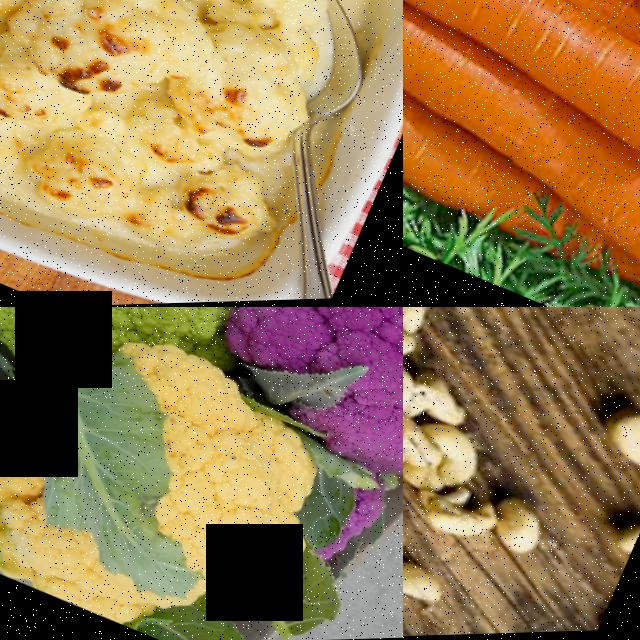carrot: (454, 100, 640, 307), (403, 0, 640, 154)
cashew: (490, 489, 577, 574), (580, 390, 640, 505), (403, 543, 475, 625), (403, 307, 447, 339), (403, 317, 425, 367)
cauliflower: (0, 343, 341, 640), (225, 307, 403, 516), (0, 307, 284, 434)
